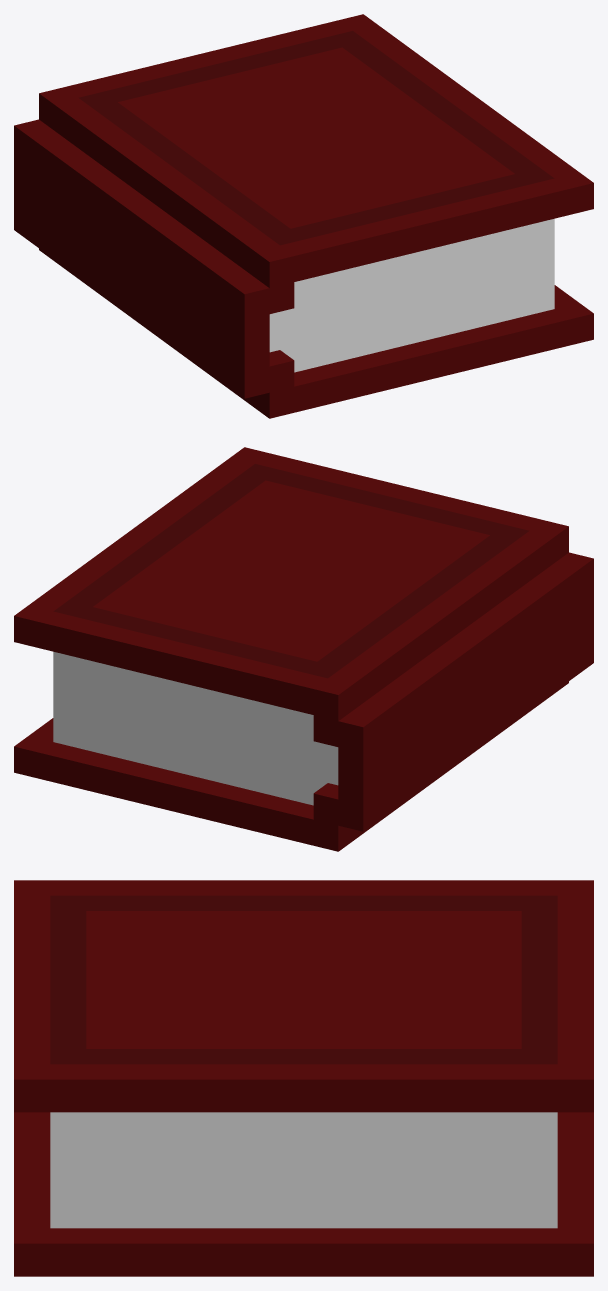
File: livre_fermer.obj
3 renders of one model, top to bottom at view 1: azimuth 30°, elevation 25°; view 2: azimuth 150°, elevation 25°; view 3: azimuth 270°, elevation 25°, orthographic. The views are drawn at different scales.
Size of the model in its own units: 1.4 by 0.6 by 1.6.
1 material, 1 textured.
